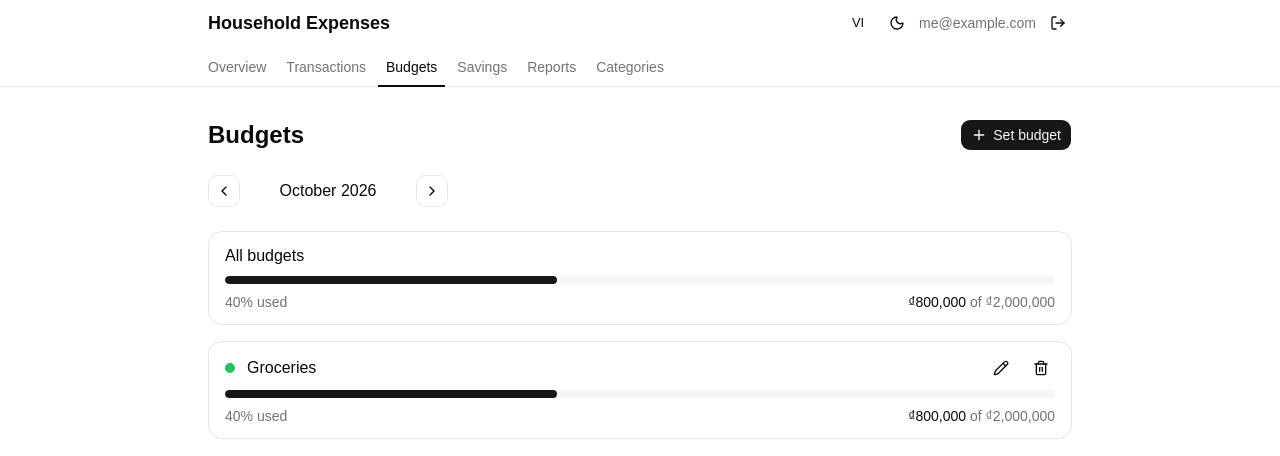
Test: icon button tooltips › performs the action on a plain click, without waiting for the tooltip
Step 1. Click the button named "Next month" → (432, 191), box [416, 175, 448, 207]
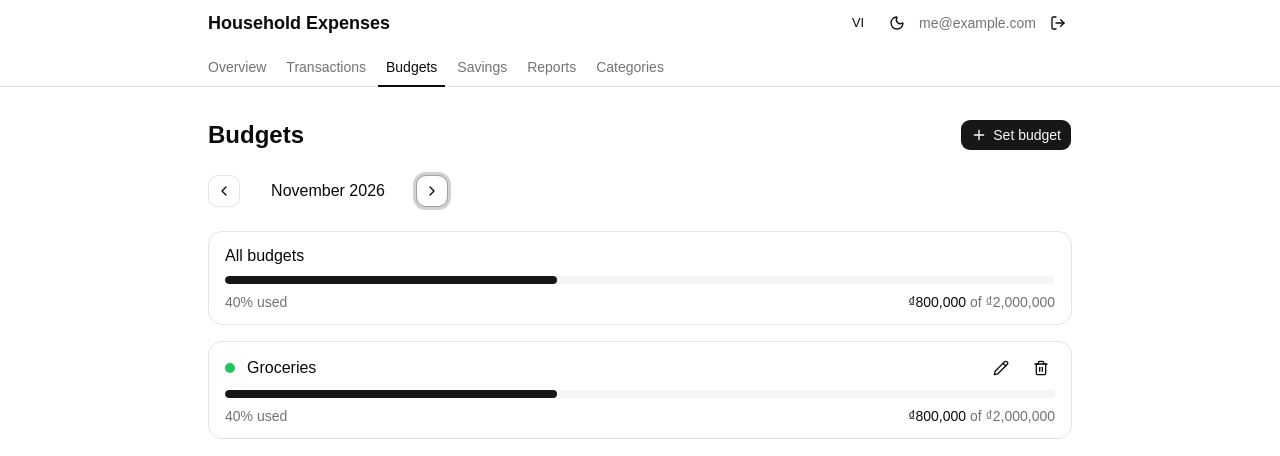
Expected: the text "November 2026" is shown, [271, 182, 385, 199]
